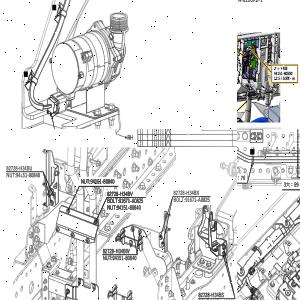PartNumber: (6, 164, 32, 172), (116, 204, 142, 211), (102, 248, 130, 254), (112, 255, 136, 262), (16, 172, 40, 179), (107, 191, 134, 197), (90, 178, 116, 184), (118, 198, 144, 204), (174, 189, 200, 195), (198, 291, 224, 297), (185, 197, 210, 203), (273, 70, 293, 76)
